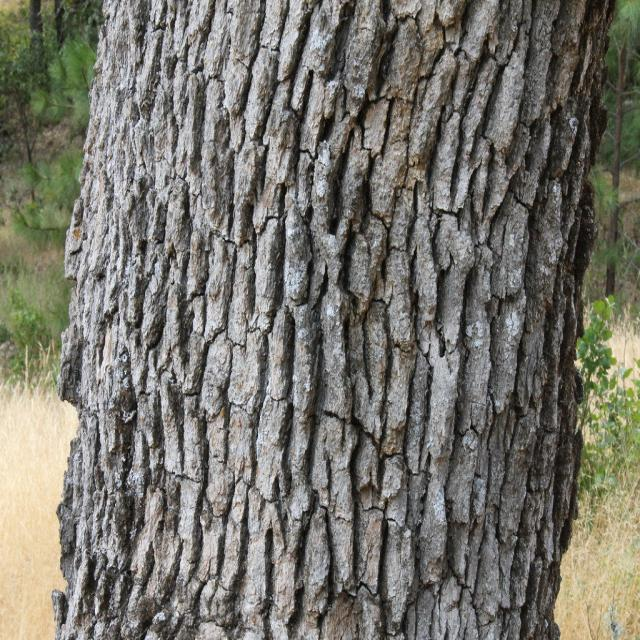Quercus garryana: (52, 0, 594, 640)
